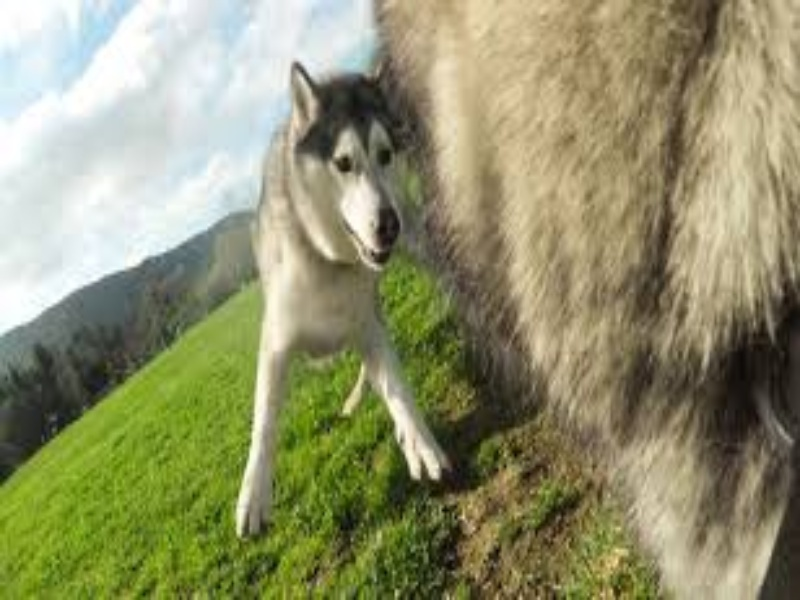dog: (213, 49, 475, 551)
